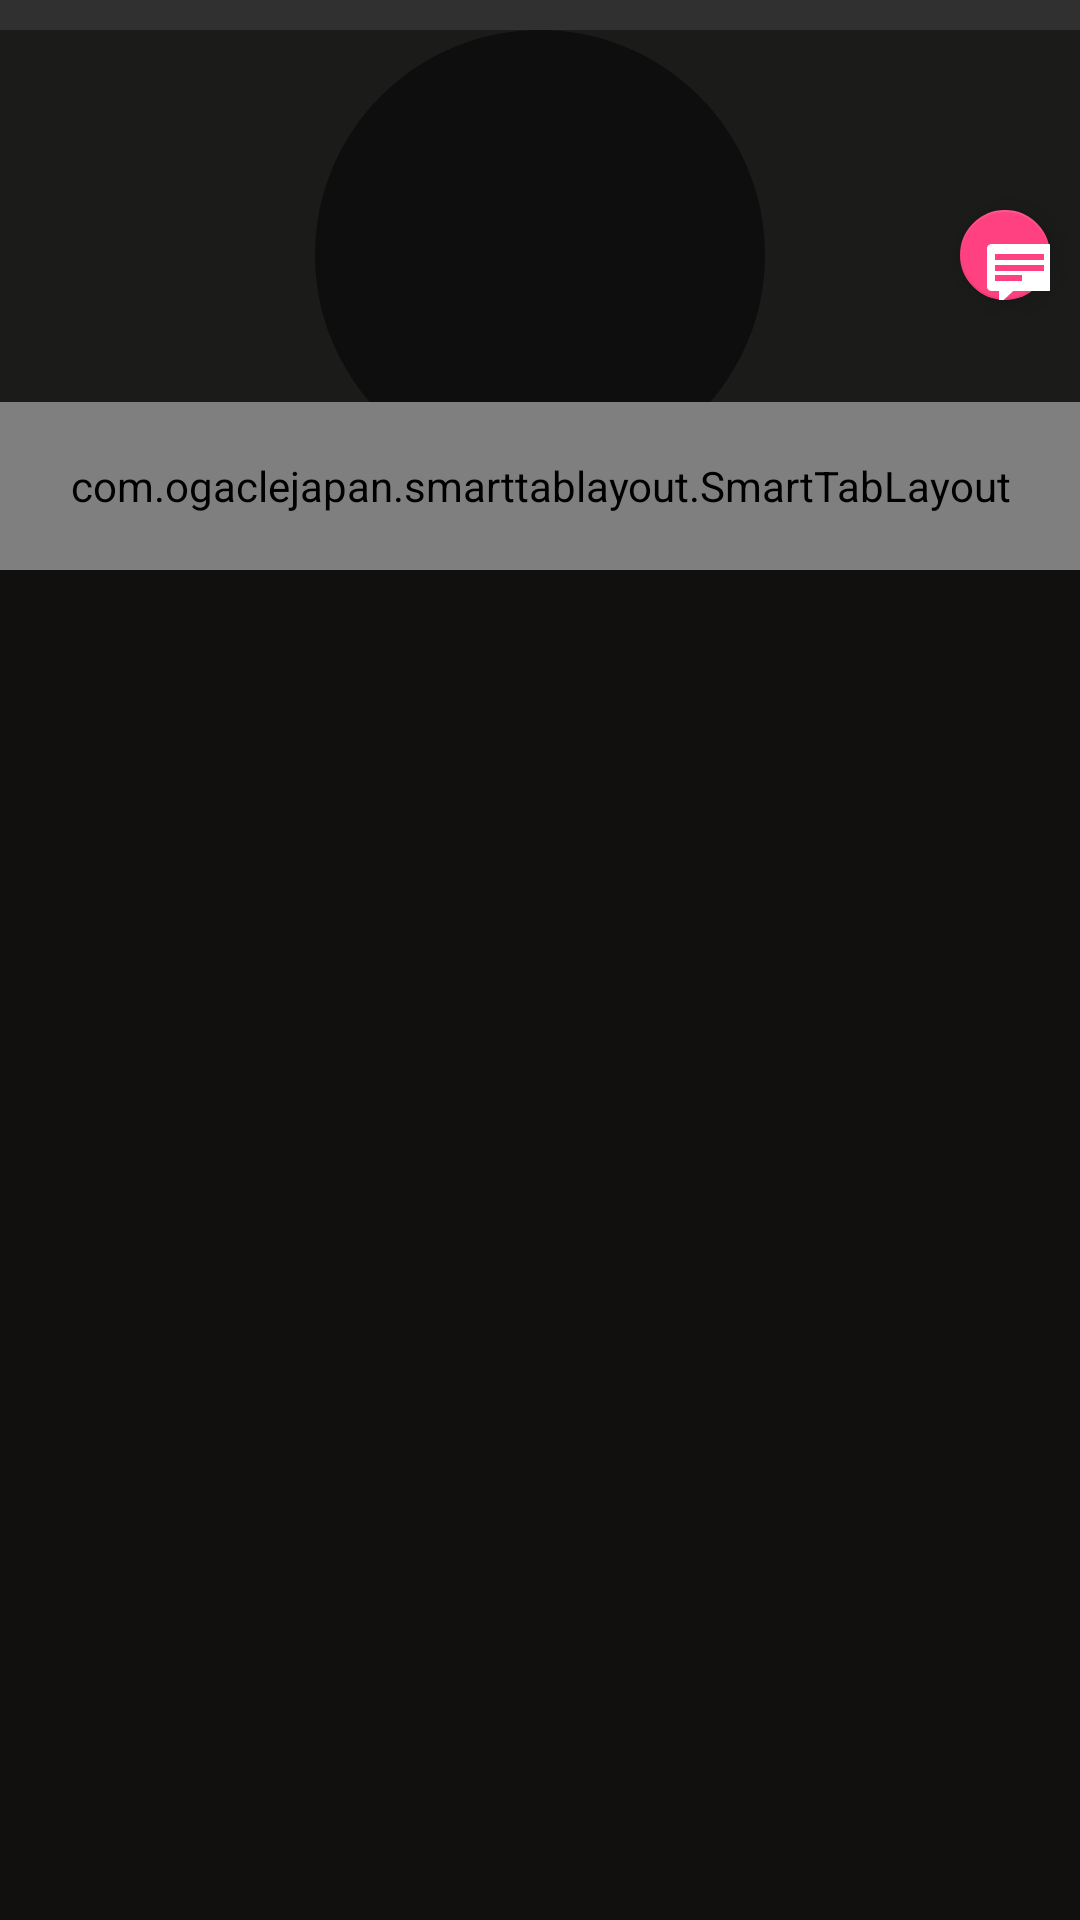

Named icons in this screenshot (1080px×1920px) and their centers, (x=x, y=y):
chat: (x=1005, y=255)
